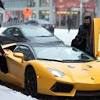Lamborghini: (1, 41, 100, 96)
